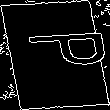P_E: (5, 34, 105, 76)
